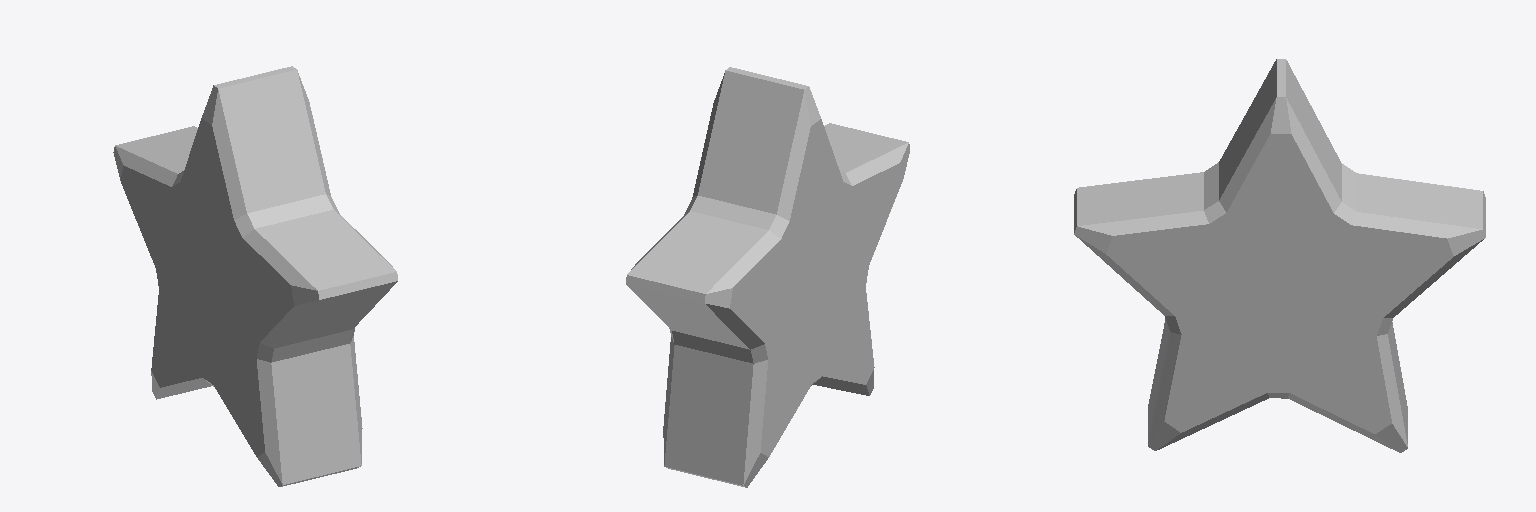
Rendered from Star.obj.
3 views of the same model, side by side, from view 1: azimuth 30°, elevation 25°; view 2: azimuth 150°, elevation 25°; view 3: azimuth 270°, elevation 25° (orthographic).
Parts seen in each view (by area): view 1: Star; view 2: Star; view 3: Star.
Boxes of the visible parts, <box> form: Star: <box>113,66,397,486</box>; Star: <box>626,67,909,487</box>; Star: <box>1074,59,1485,452</box>.
Bounding box in the file's own units: 0.5 × 1.75 × 1.83.